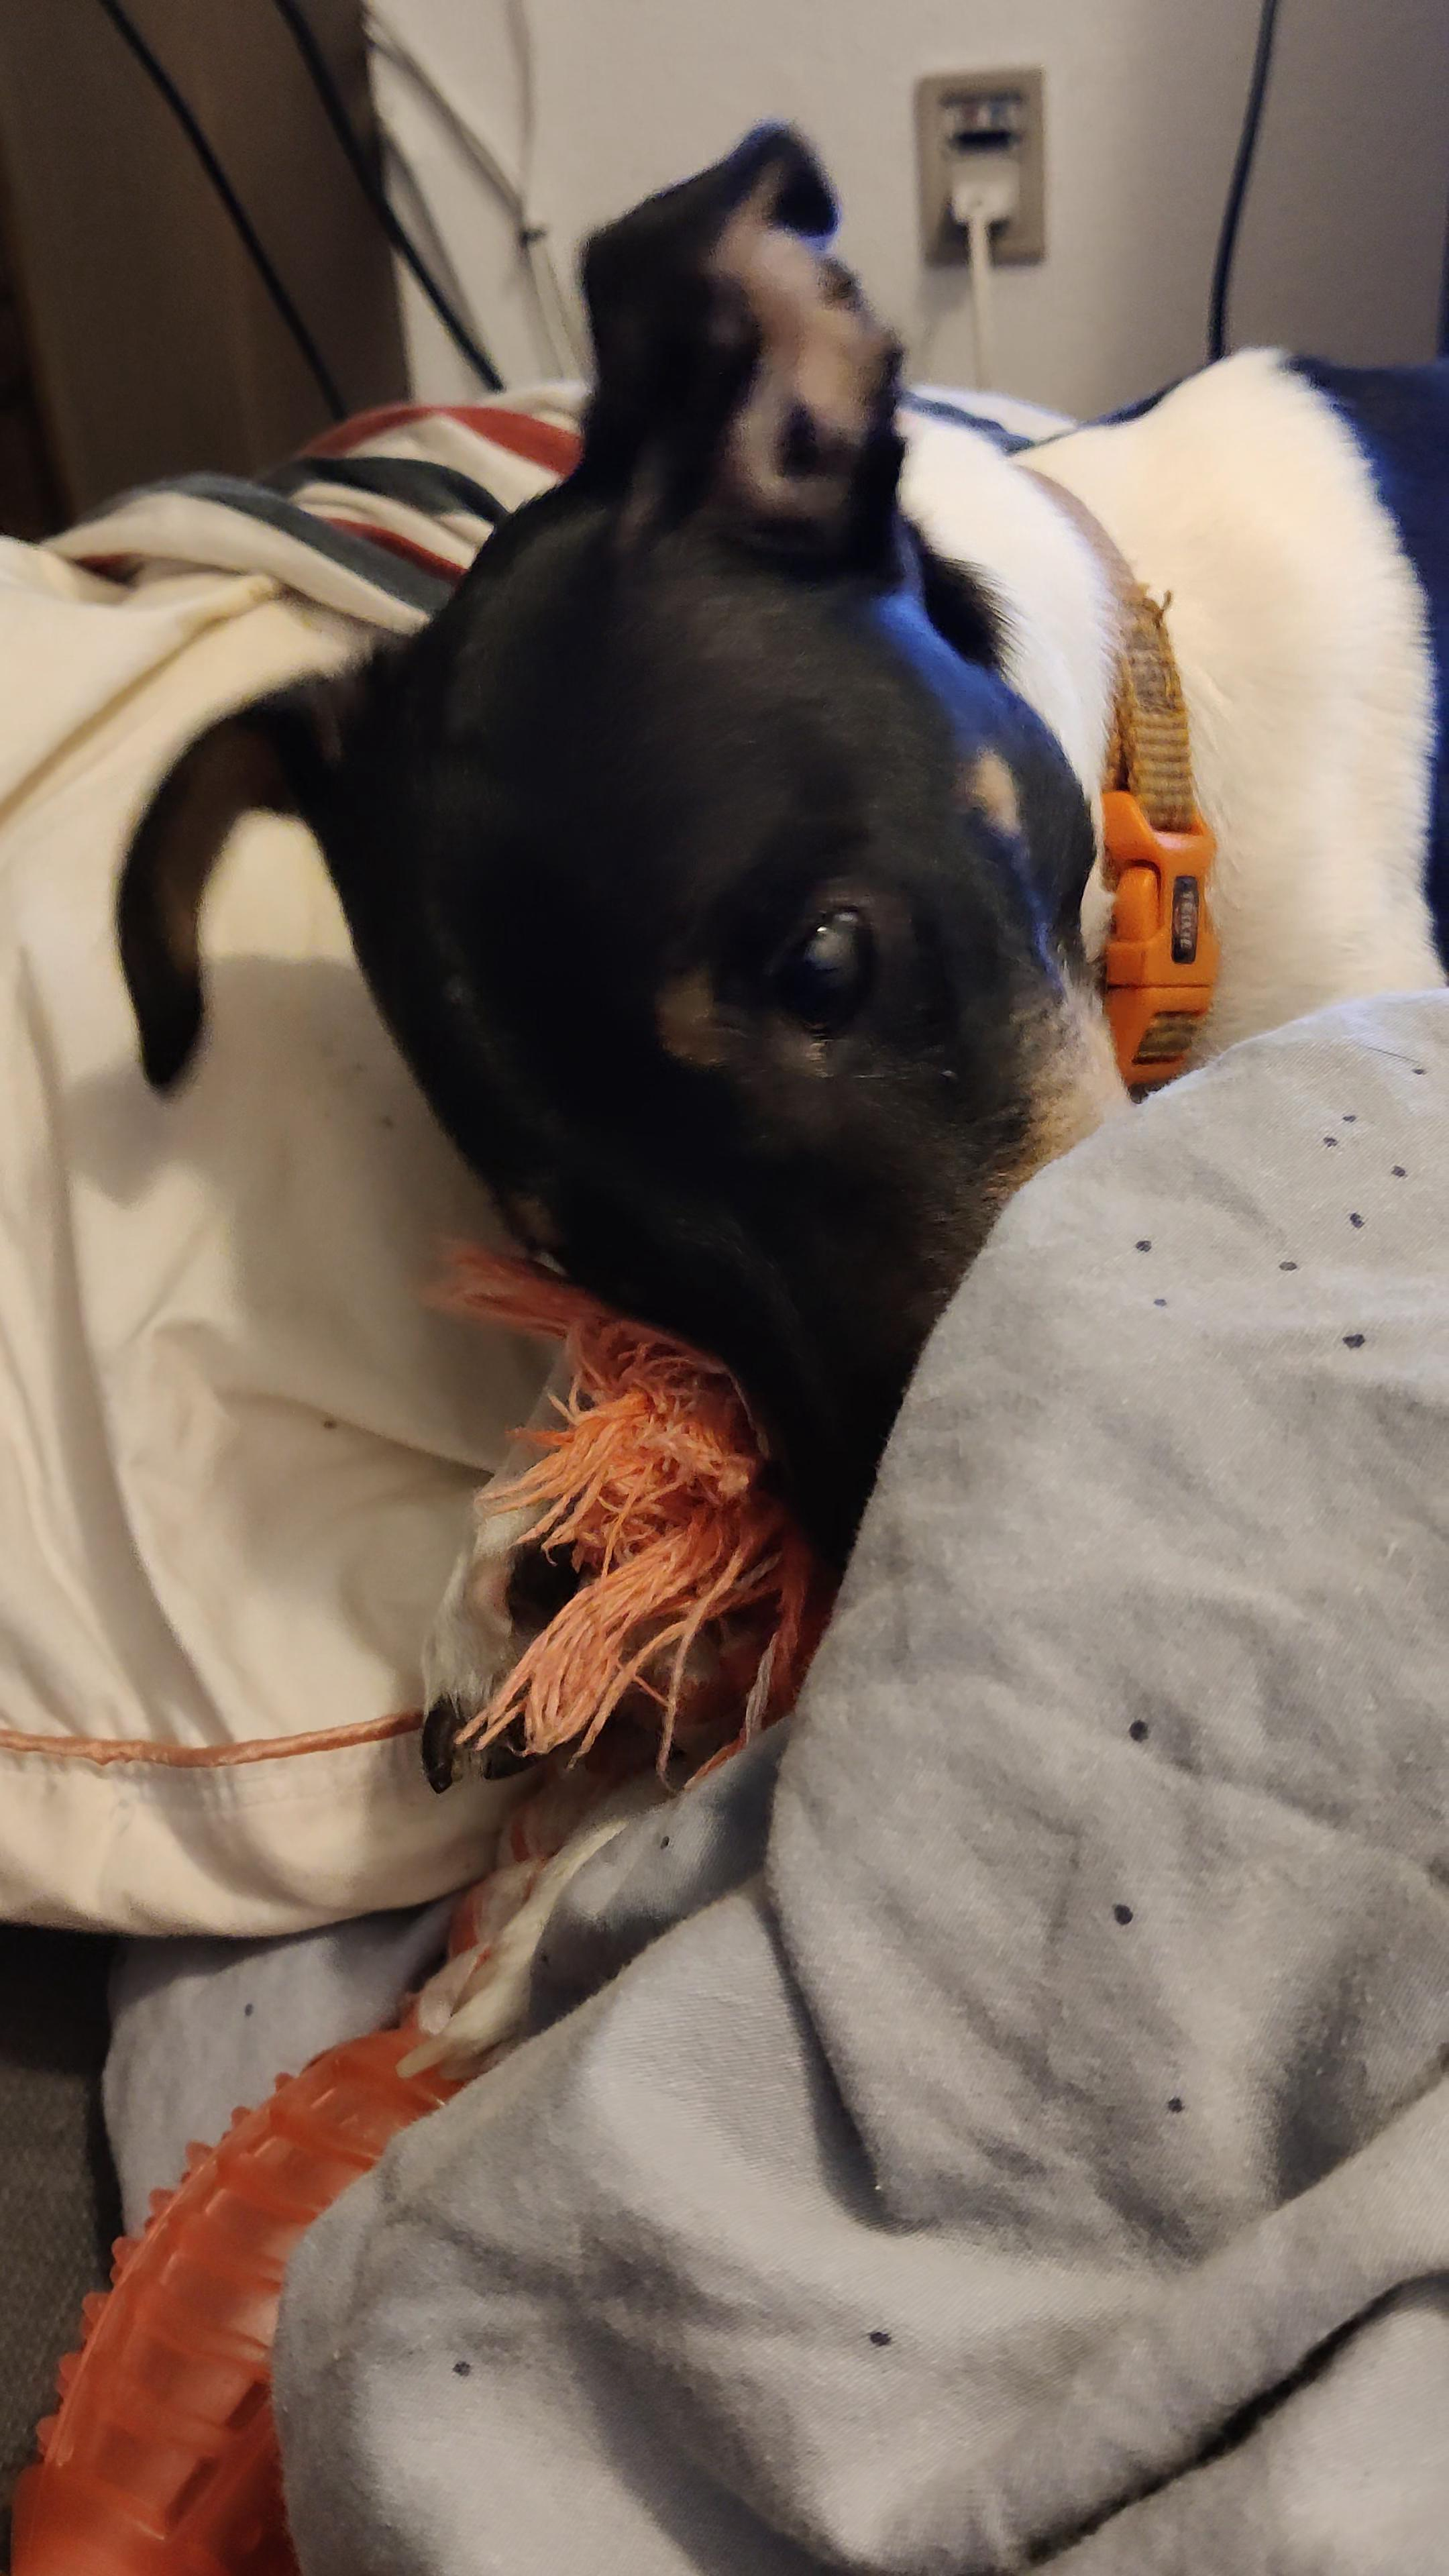Dog: (113, 115, 1449, 2091)
